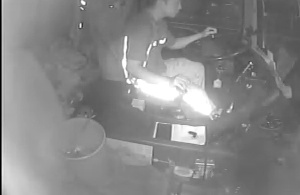paper: (152, 120, 208, 147)
